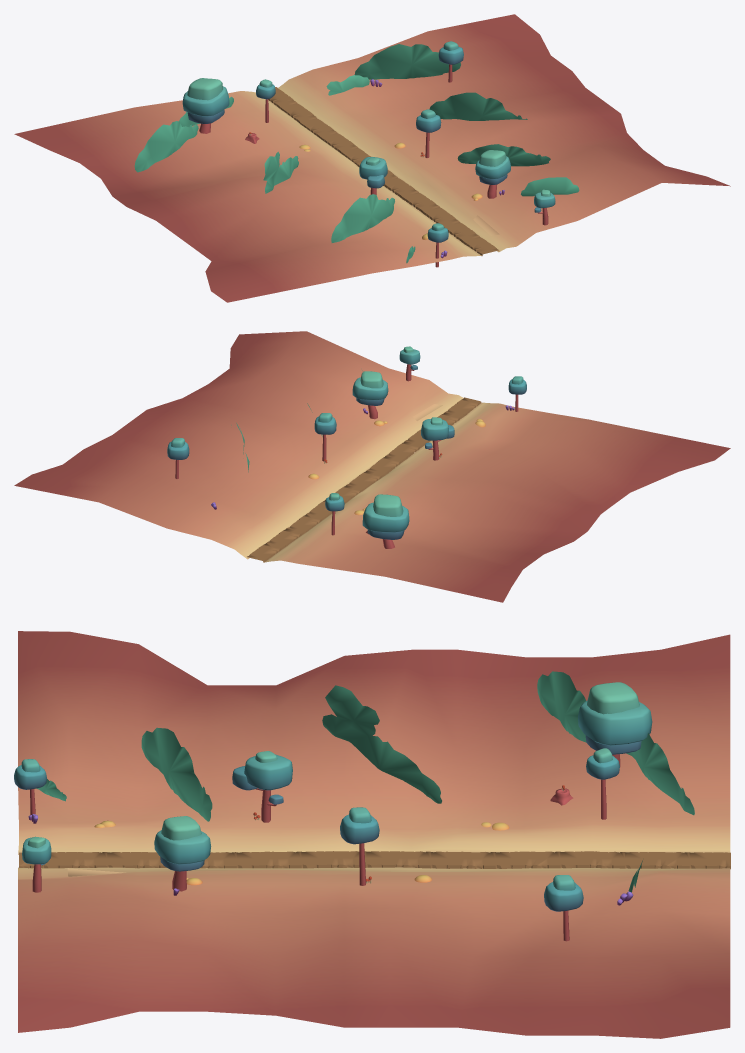
File: stage1b.gltf
3 views of the same model, one above another, from view 1: azimuth 30°, elevation 25°; view 2: azimuth 150°, elevation 25°; view 3: azimuth 270°, elevation 25° (orthographic). The views are drawn at different scales.
Visible parts, largest first — view 1: stage1b_GEO:PIV; view 2: stage1b_GEO:PIV; view 3: stage1b_GEO:PIV.
Boxes of the visible parts, x1,y1,x2,y2 form: stage1b_GEO:PIV: (14,14,730,302); stage1b_GEO:PIV: (14,331,730,602); stage1b_GEO:PIV: (14,631,730,1038).
Bounding box in the file's own units: 27919 × 3455 × 21147.
2 materials, 2 textured.
